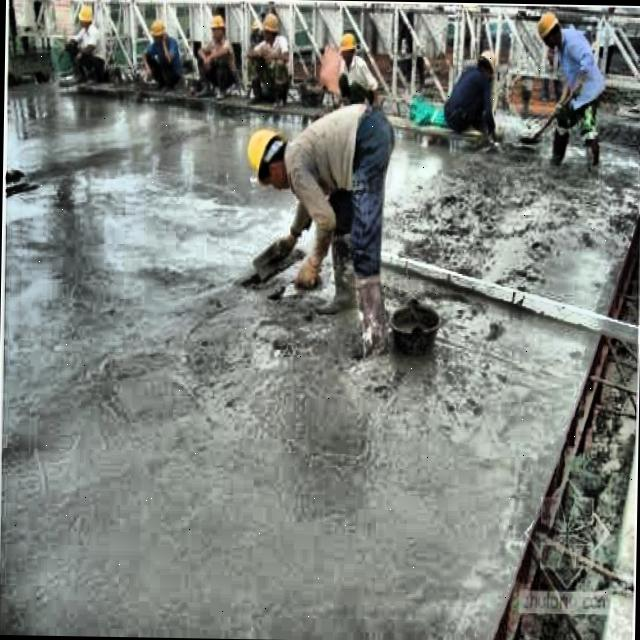helmet: (242, 124, 294, 188), (527, 9, 566, 56), (254, 4, 288, 51), (332, 26, 362, 70), (474, 42, 503, 78), (72, 5, 102, 38), (146, 9, 170, 50), (204, 10, 230, 44)
